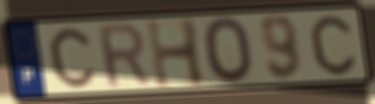9: (258, 13, 304, 83)
C: (46, 25, 97, 90), (307, 13, 358, 77)
H: (144, 17, 209, 91)
O: (201, 15, 256, 87)
R: (94, 21, 154, 91)
